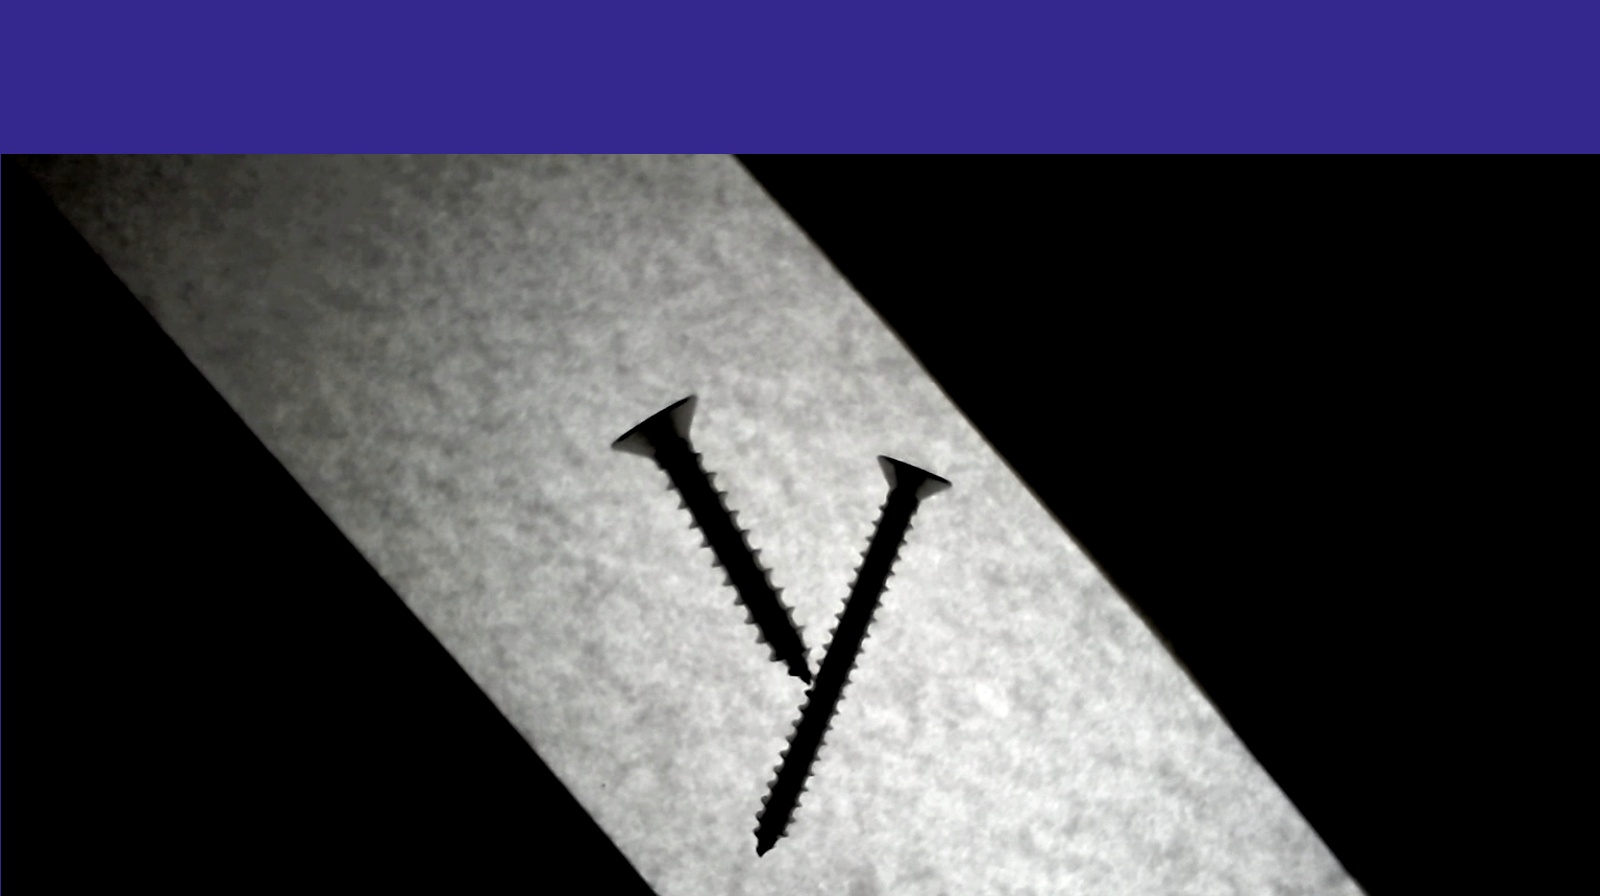S001: (601, 392, 816, 687)
S002: (746, 445, 952, 858)
